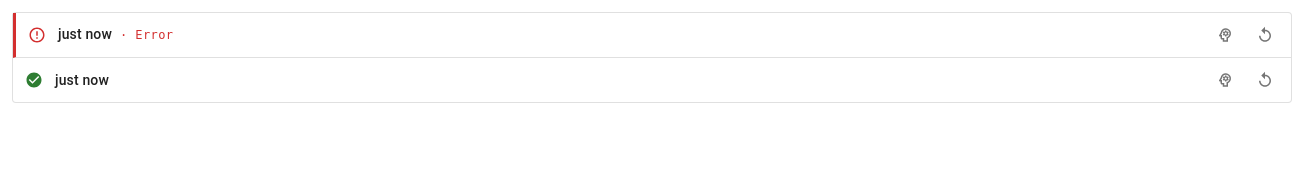
RunMemoriesButton › is on each saved-agent run row, and clicking it does not open the row
Click the button named "Memories from this run" in the row of "Error" at point(1225, 35), box left=1211, top=21, right=1239, bottom=49
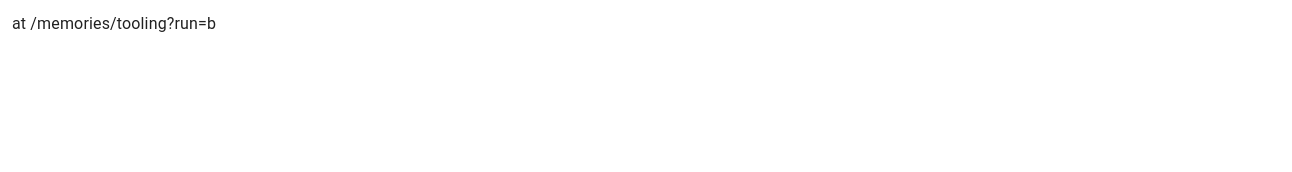
Check: the text "at /memories/tooling?run=b" is shown, box left=12, top=14, right=216, bottom=33
